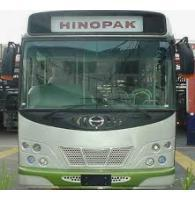bus: (2, 8, 194, 191)
